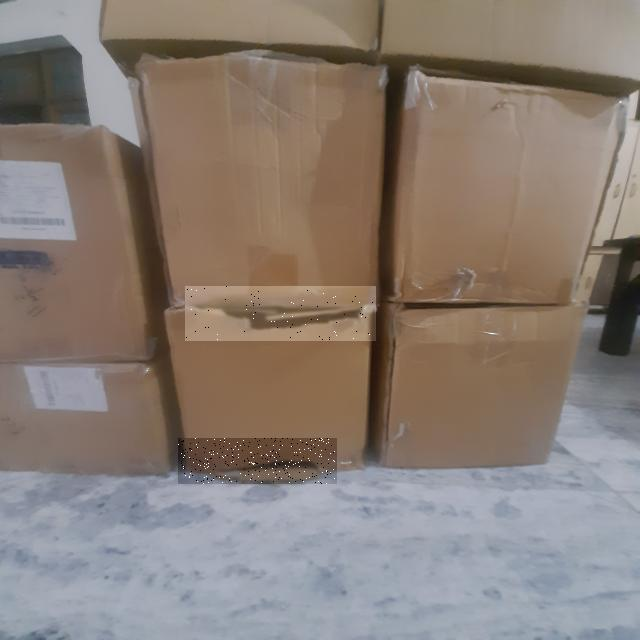leakage: (185, 286, 375, 340), (179, 439, 335, 484)
